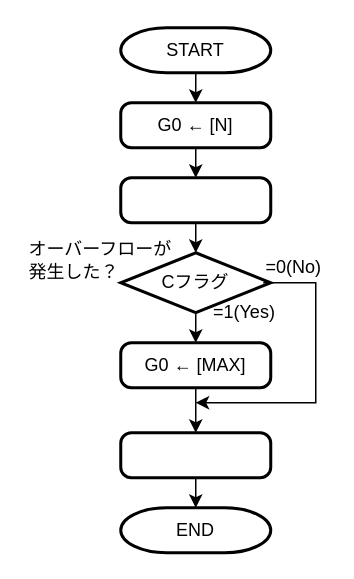
This 354x579 diagram has some shape labels left out. The box of each missing label's shape, as (x1, y1, x2, y2) in pixels:
[L] ← G0: (118, 430, 272, 478)
G0 ← G0 + [M]: (118, 176, 272, 224)
